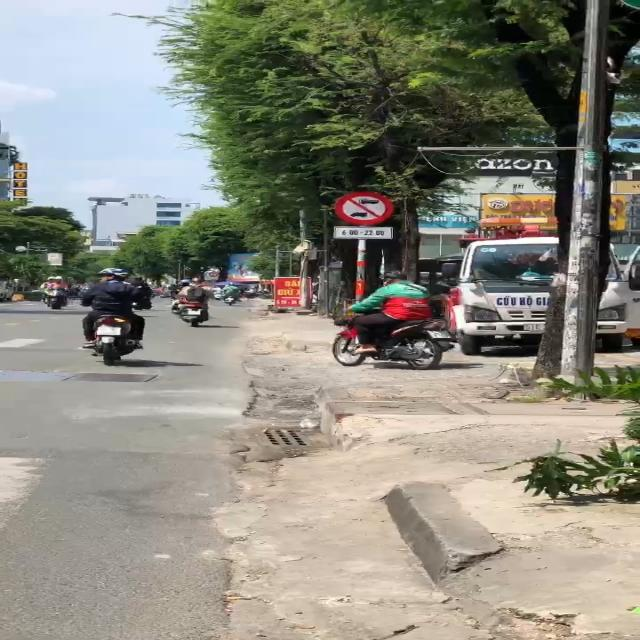Bien bao cam xe oto khach va xe oto tai: (326, 189, 398, 225)
